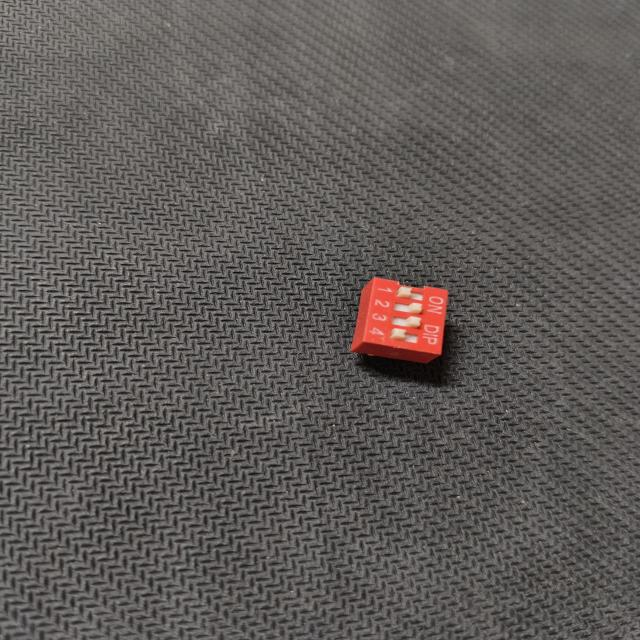switch: (342, 267, 458, 373)
